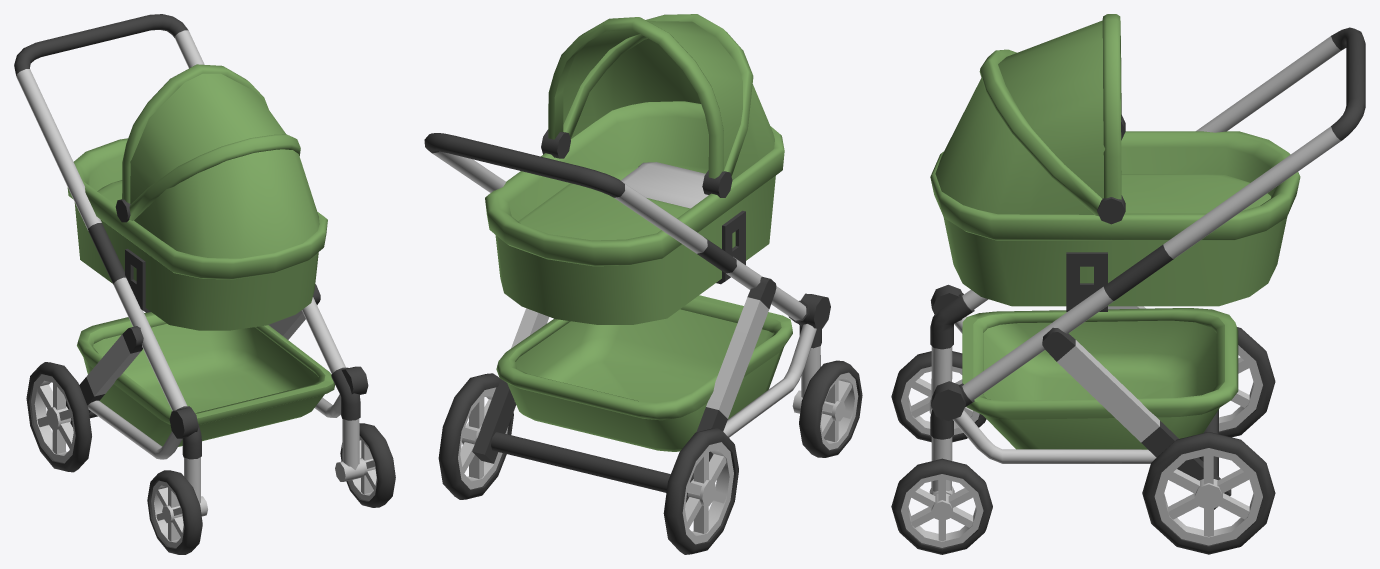
Rendered from Stroller_01.fbx.
The picture shows the model from 3 angles, left to right: view 1: azimuth 30°, elevation 25°; view 2: azimuth 150°, elevation 25°; view 3: azimuth 270°, elevation 25°; orthographic projection. The views are drawn at different scales.
Visible parts, largest first — view 1: Stroller_01, Stroller_01_Back_Right, Stroller_01_Front_Right, Stroller_01_Front_Left; view 2: Stroller_01, Stroller_01_Back_Right, Stroller_01_Back_Left, Stroller_01_Front_Right; view 3: Stroller_01, Stroller_01_Back_Left, Stroller_01_Front_Left, Stroller_01_Front_Right, Stroller_01_Back_Right.
Boxes of the visible parts, x1,y1,x2,y2 form: Stroller_01: [14, 14, 368, 503]; Stroller_01_Back_Right: [26, 362, 91, 472]; Stroller_01_Front_Right: [147, 470, 207, 554]; Stroller_01_Front_Left: [335, 423, 395, 507]; Stroller_01: [424, 14, 830, 502]; Stroller_01_Back_Right: [663, 428, 738, 554]; Stroller_01_Back_Left: [438, 373, 513, 499]; Stroller_01_Front_Right: [792, 360, 862, 457]; Stroller_01: [930, 14, 1365, 509]; Stroller_01_Back_Left: [1142, 432, 1275, 554]; Stroller_01_Front_Left: [891, 458, 992, 554]; Stroller_01_Front_Right: [891, 351, 986, 442]; Stroller_01_Back_Right: [1219, 327, 1275, 437].
Size of the model in its own units: 0.6187 by 1.15 by 1.04.
